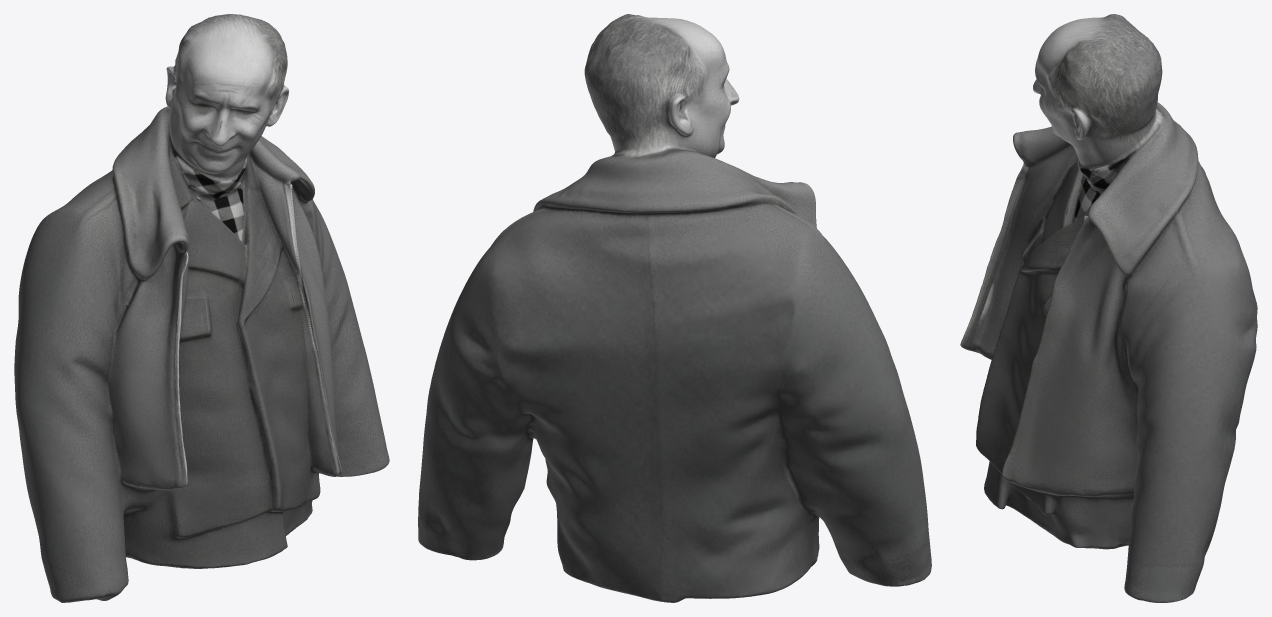
3 renders of one model, left to right at view 1: azimuth 30°, elevation 25°; view 2: azimuth 150°, elevation 25°; view 3: azimuth 270°, elevation 25°, orthographic. The views are drawn at different scales.
Bounding box in the file's own units: 1.61 × 1.9 × 1.04.
1 material, 1 textured.
